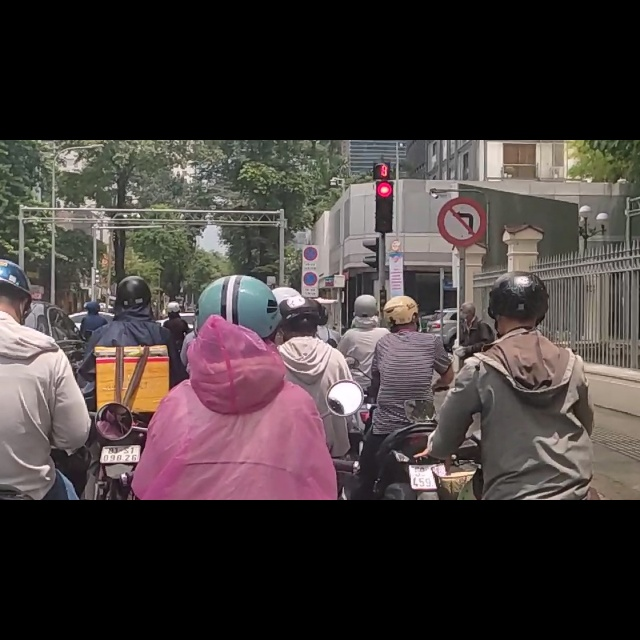bien_chi_dan: (435, 102, 489, 192), (302, 231, 317, 260), (303, 187, 318, 216)
